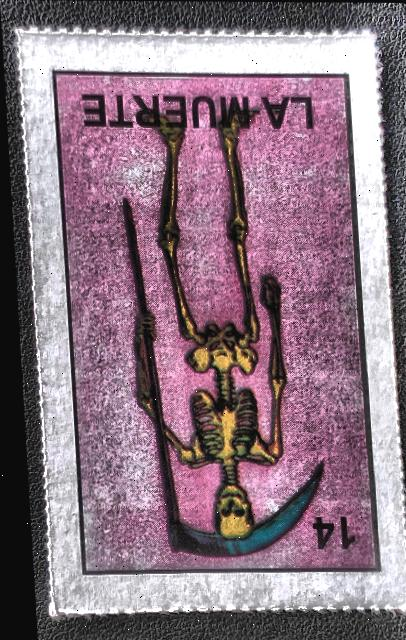La Muerte: (26, 41, 393, 597)
